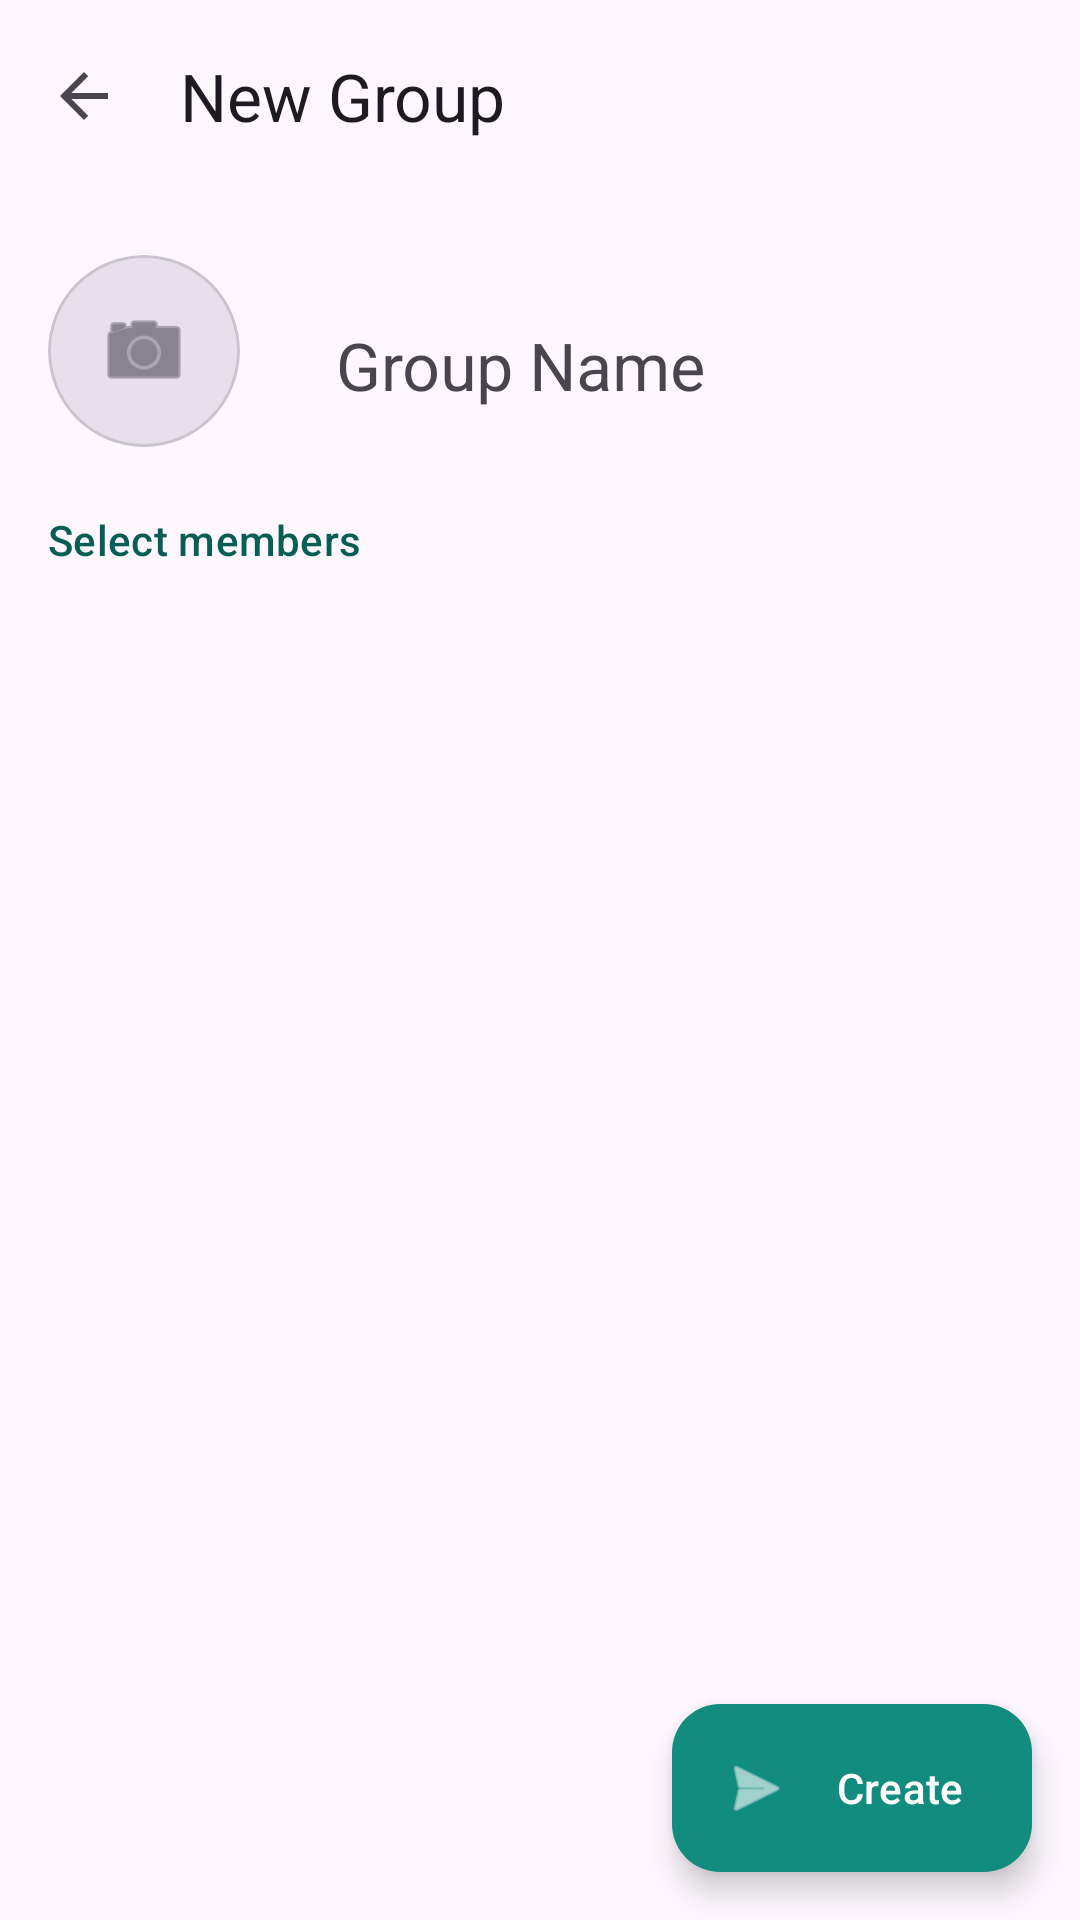

Screen size 1080*1920. Icon name, then its center in pixels as [x,y]:
camera: [144,351]
